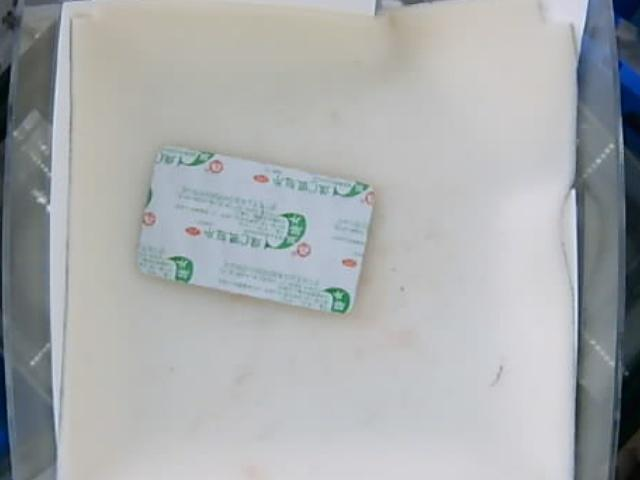Medicine: (138, 144, 374, 319)
